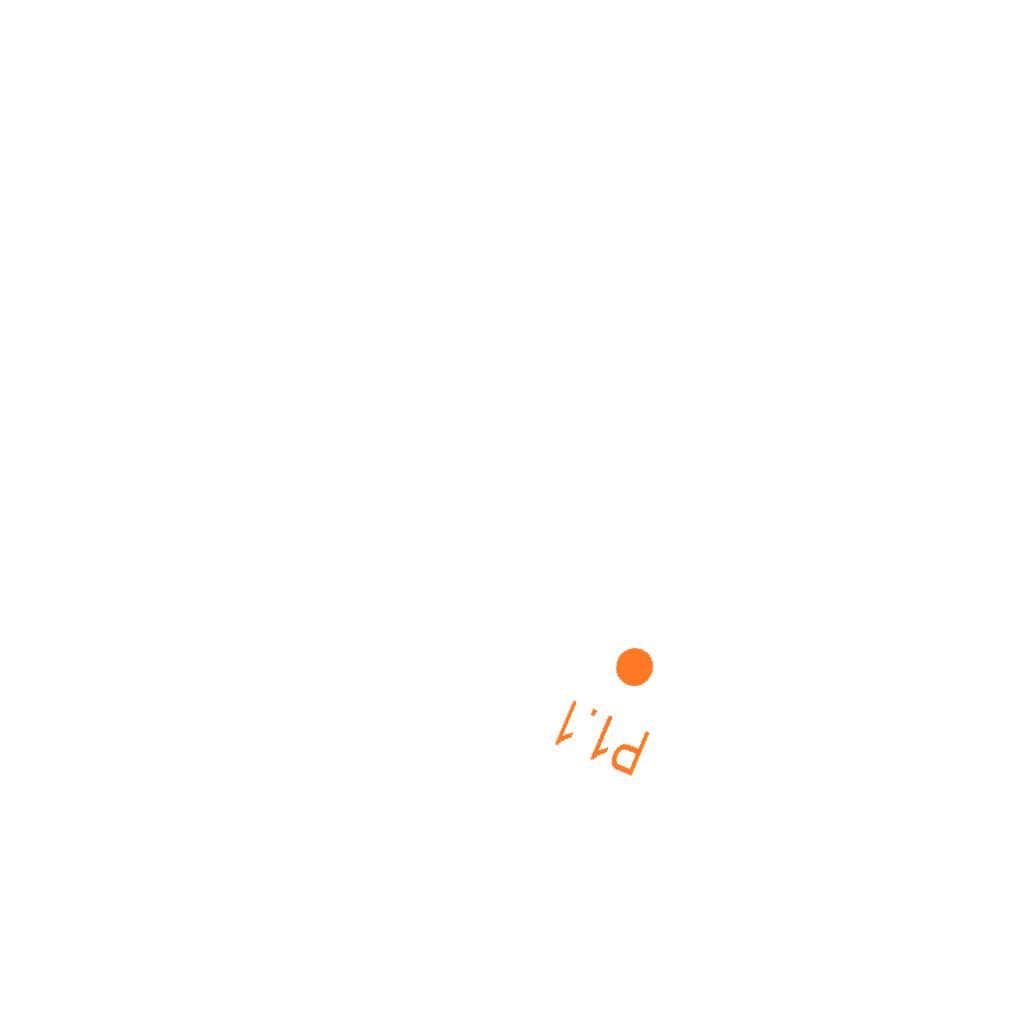Downlight_LED_Einbauleuchten_Flur_2: (547, 626, 684, 782)
